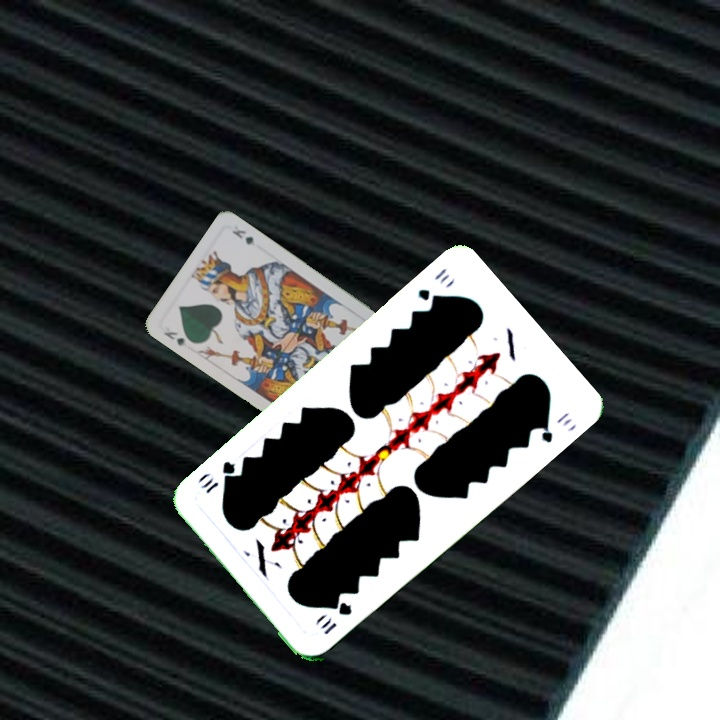G10: (413, 263, 453, 308), (317, 597, 355, 638)
GK: (159, 327, 187, 349)
